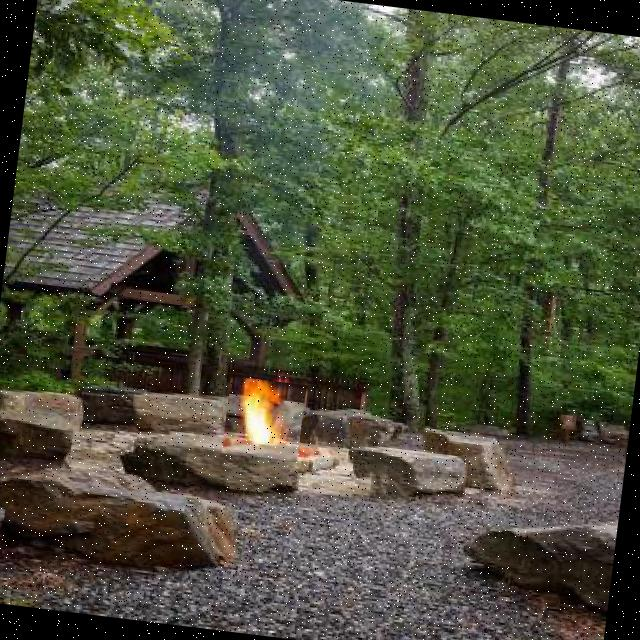fire: (221, 376, 306, 462)
